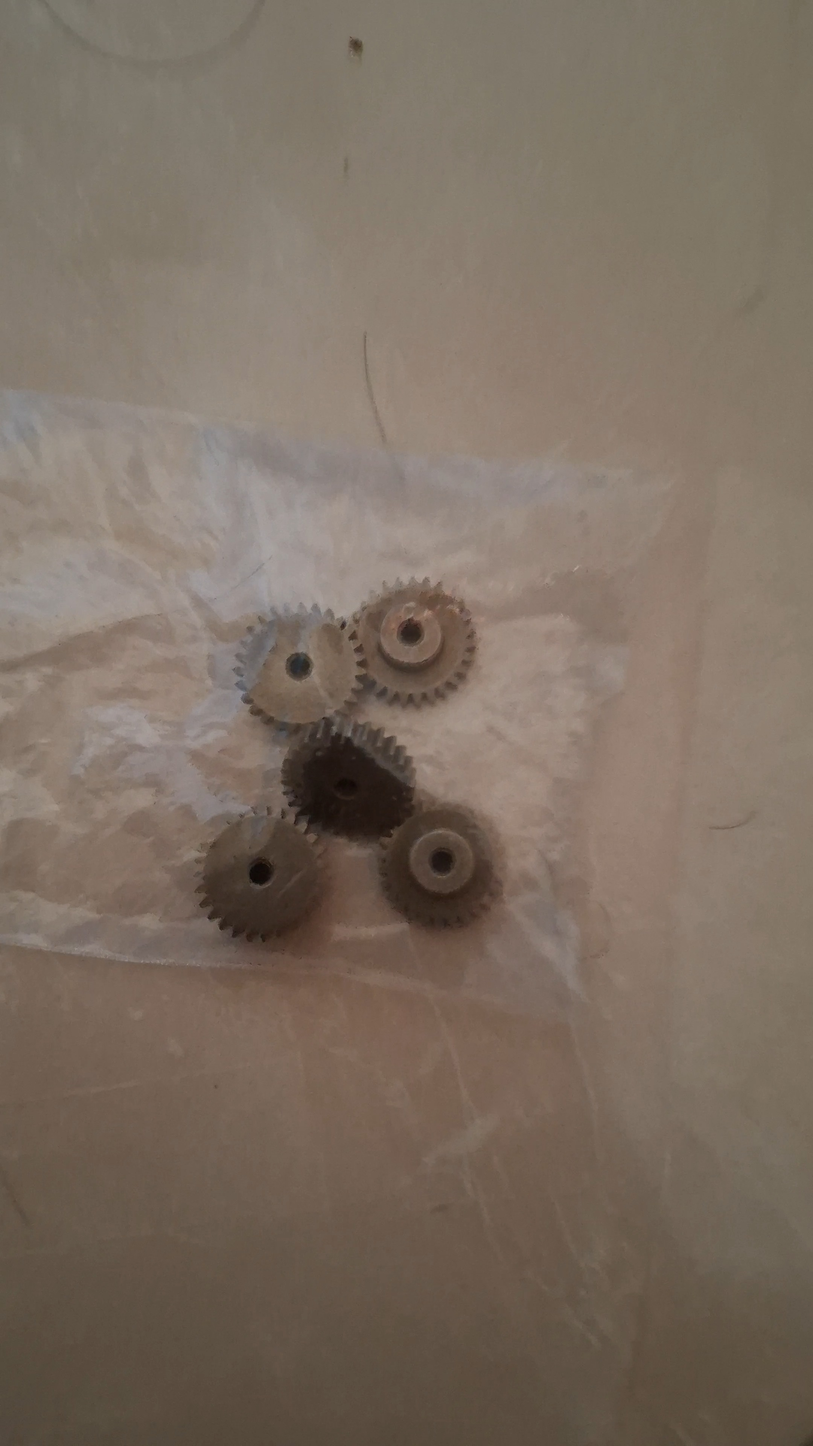spur gear: (196, 810, 321, 940), (234, 607, 363, 729), (282, 718, 414, 837), (353, 578, 475, 704), (380, 803, 498, 926)
